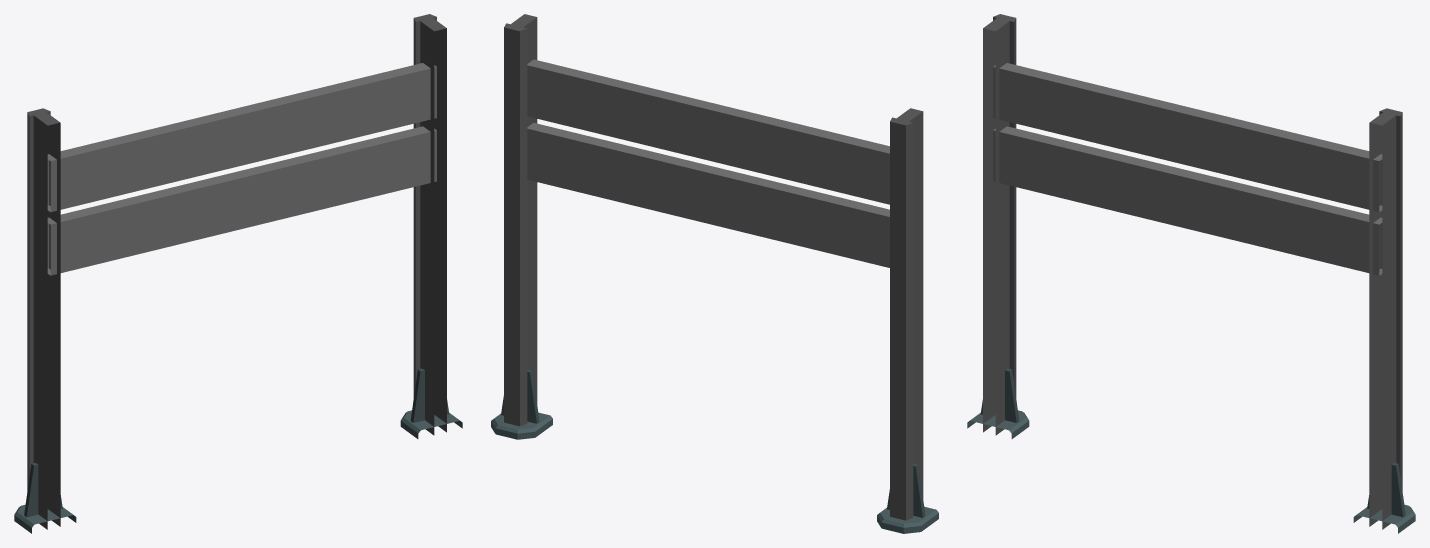
File: SM_beam_double.fbx
3 views of the same model, side by side, from view 1: azimuth 30°, elevation 25°; view 2: azimuth 150°, elevation 25°; view 3: azimuth 330°, elevation 25° (orthographic).
Visible parts, largest first — view 1: SM_beam_double; view 2: SM_beam_double; view 3: SM_beam_double.
Boxes of the visible parts, x1=… form: SM_beam_double: x1=14, y1=14, x2=462, y2=533; SM_beam_double: x1=491, y1=14, x2=938, y2=533; SM_beam_double: x1=967, y1=14, x2=1415, y2=533.
Size of the model in its own units: 334 by 300 by 32.56.
Materials: 1 (1 with a texture image).
